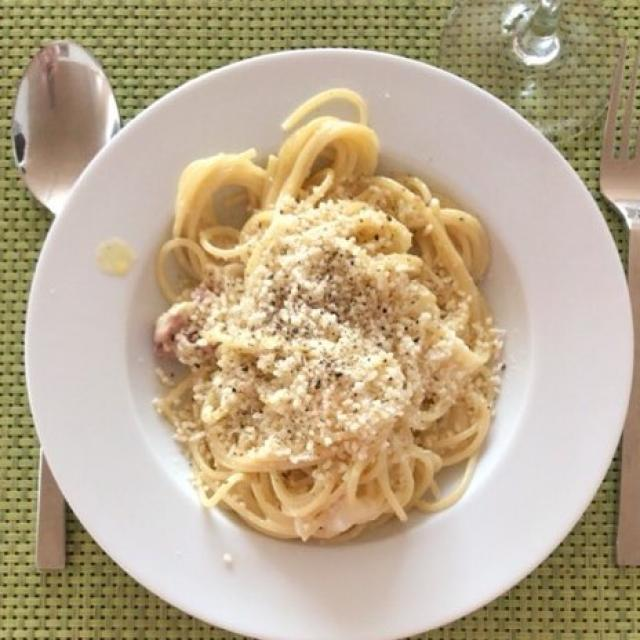cheese: (190, 226, 443, 456)
pasta: (162, 130, 514, 538)
